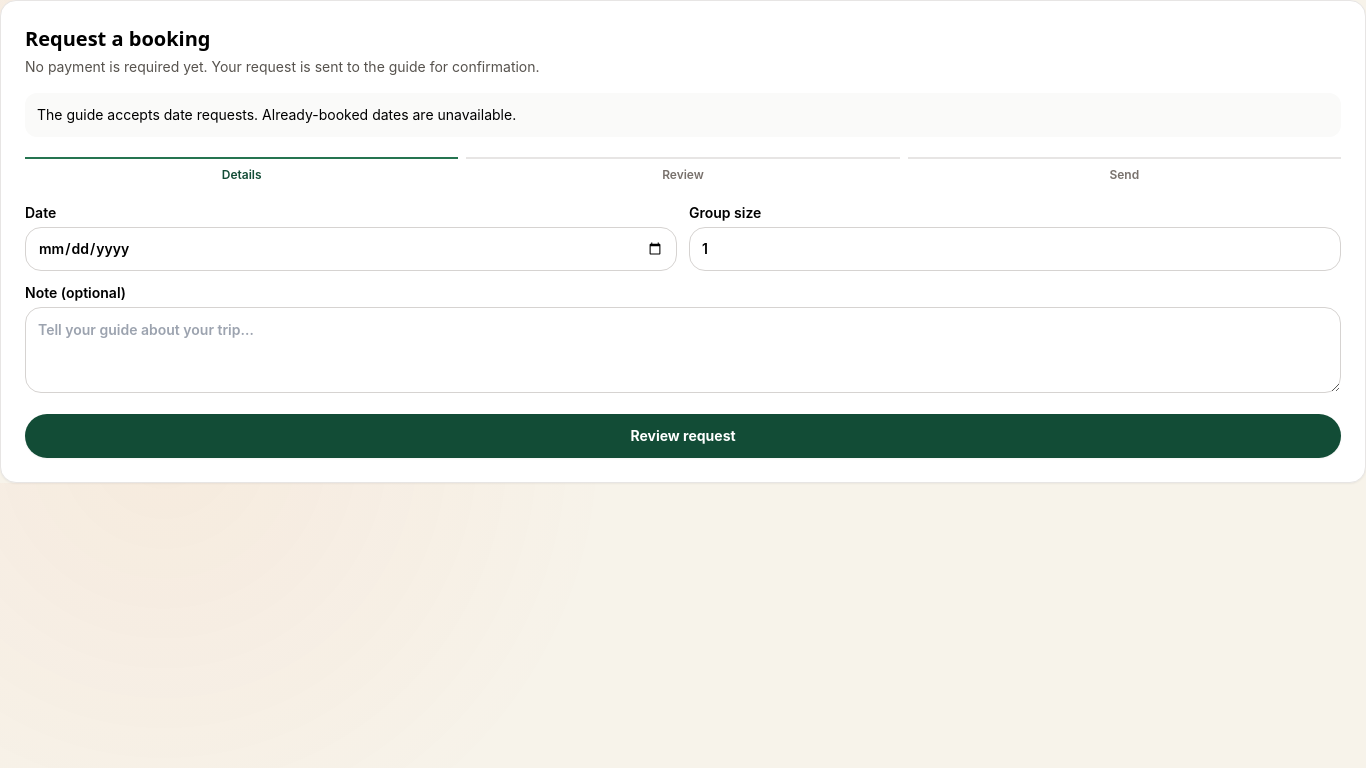
Test case: rejects a date that is already booked before sending
Check: the text "The guide accepts date requests. Already-booked dates are unavailable." is shown, box top-left (25, 93), bottom-right (1341, 137)
Type "2099-12-10" into the date field labelled "Date".
click(351, 249); type("2099-12-10")  # box top-left (25, 227), bottom-right (677, 271)
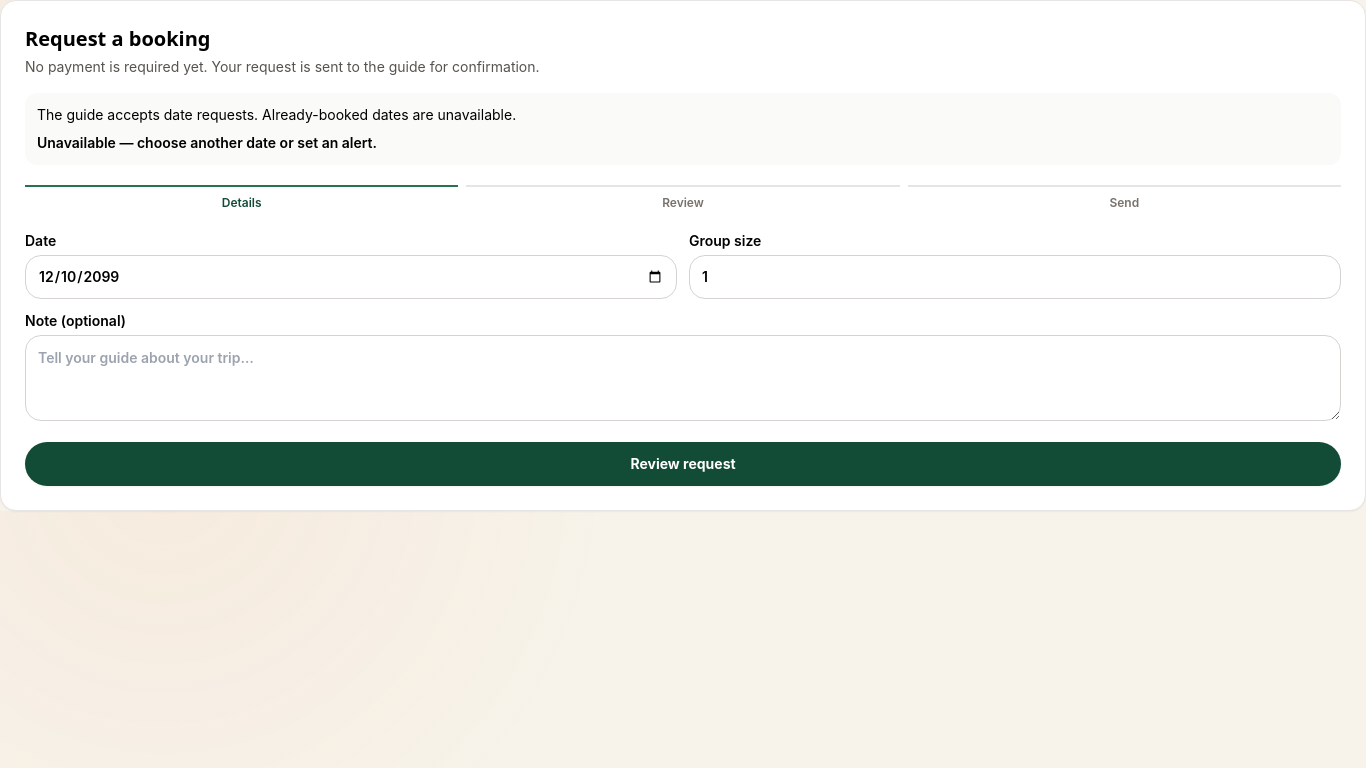
Submit the form
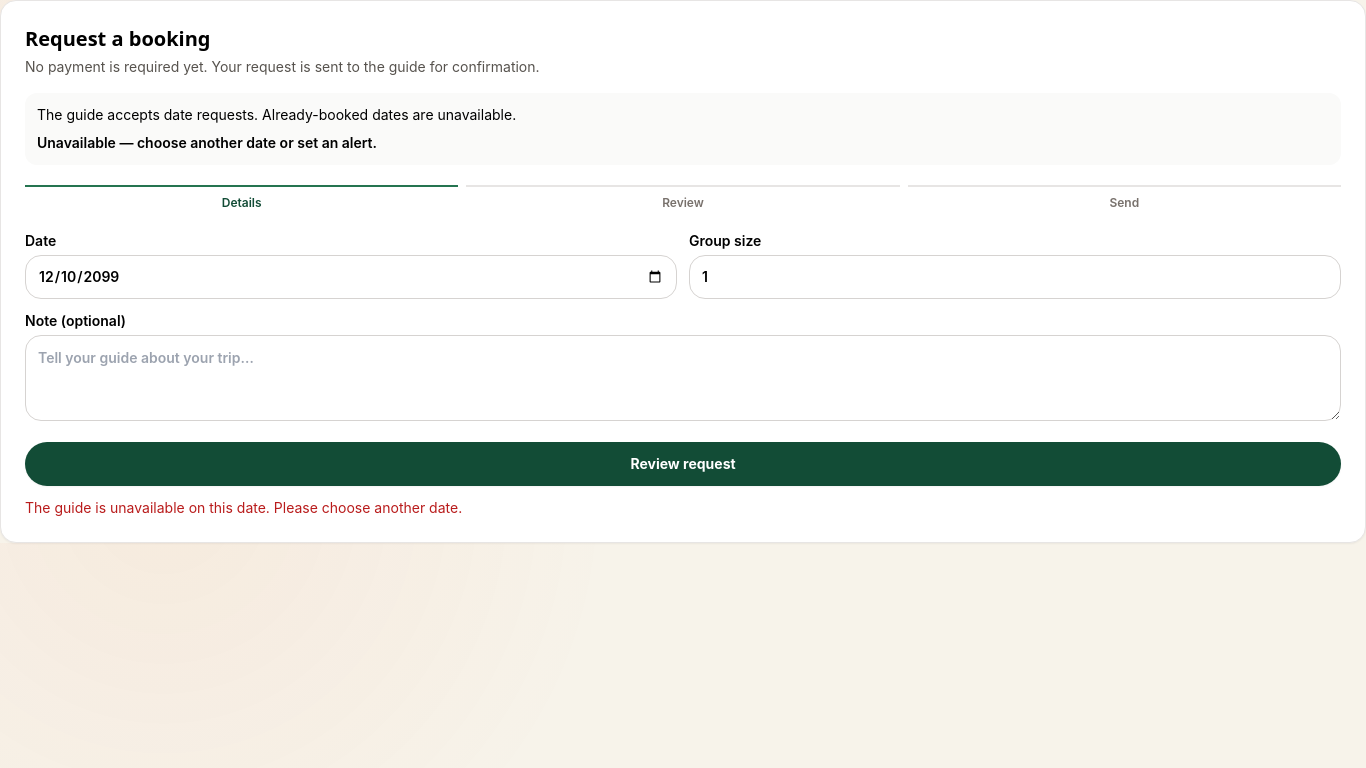
Check: the message "The guide is unavailable on this date. Please choose another date." is shown, box top-left (25, 499), bottom-right (462, 516)
